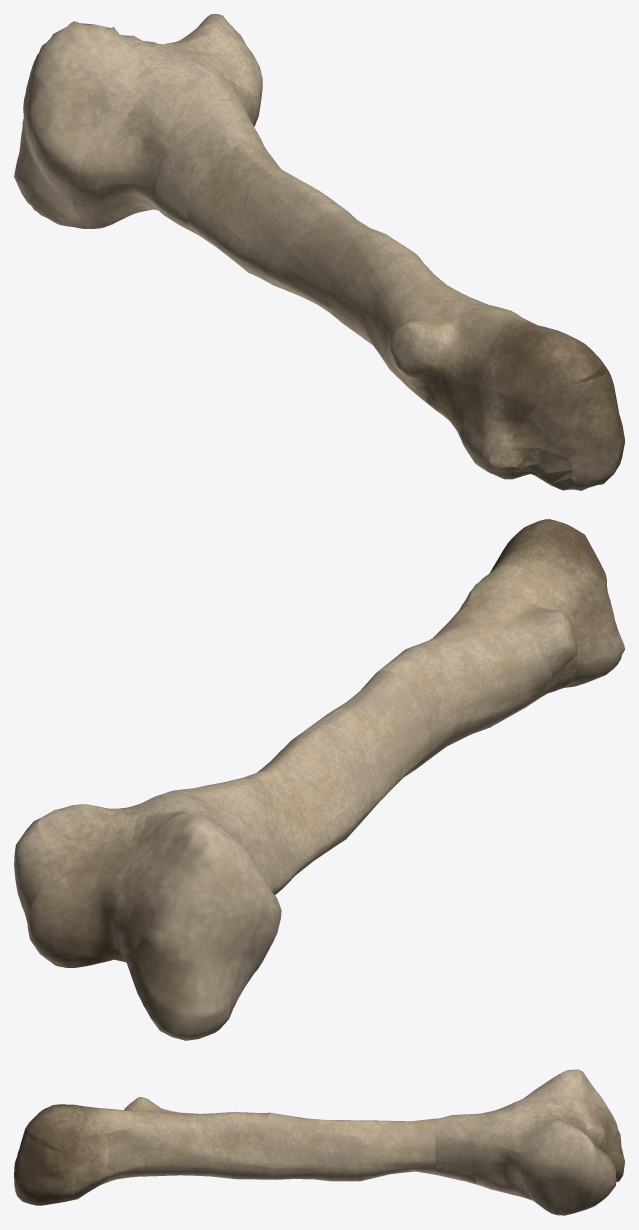
The model's file is bone3.glb.
The picture shows the model from 3 angles, top to bottom: view 1: azimuth 30°, elevation 25°; view 2: azimuth 150°, elevation 25°; view 3: azimuth 270°, elevation 25°; orthographic projection. The views are drawn at different scales.
Visible parts, largest first — view 1: polySurface3_lambert11_0; view 2: polySurface3_lambert11_0; view 3: polySurface3_lambert11_0.
Boxes of the visible parts, x1=… form: polySurface3_lambert11_0: x1=14, y1=14, x2=624, y2=490; polySurface3_lambert11_0: x1=14, y1=519, x2=624, y2=1040; polySurface3_lambert11_0: x1=14, y1=1069, x2=624, y2=1215.
Size of the model in its own units: 0.0665 by 0.0558 by 0.247.
1 material, 1 textured.
